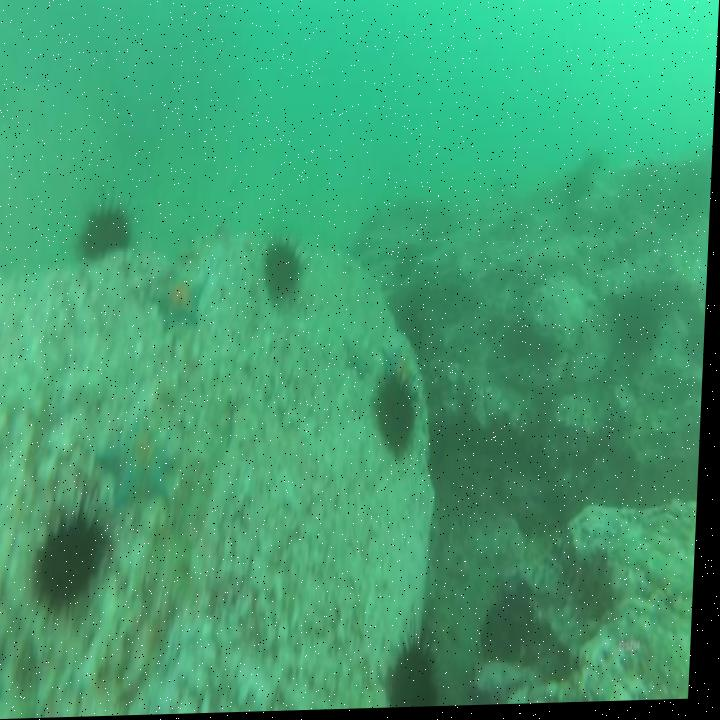echinus: (43, 523, 109, 610), (376, 374, 424, 457), (484, 592, 536, 666), (398, 650, 441, 710), (83, 207, 135, 254), (266, 238, 300, 301), (78, 515, 80, 521)
starfish: (101, 411, 183, 502), (158, 270, 203, 325)
